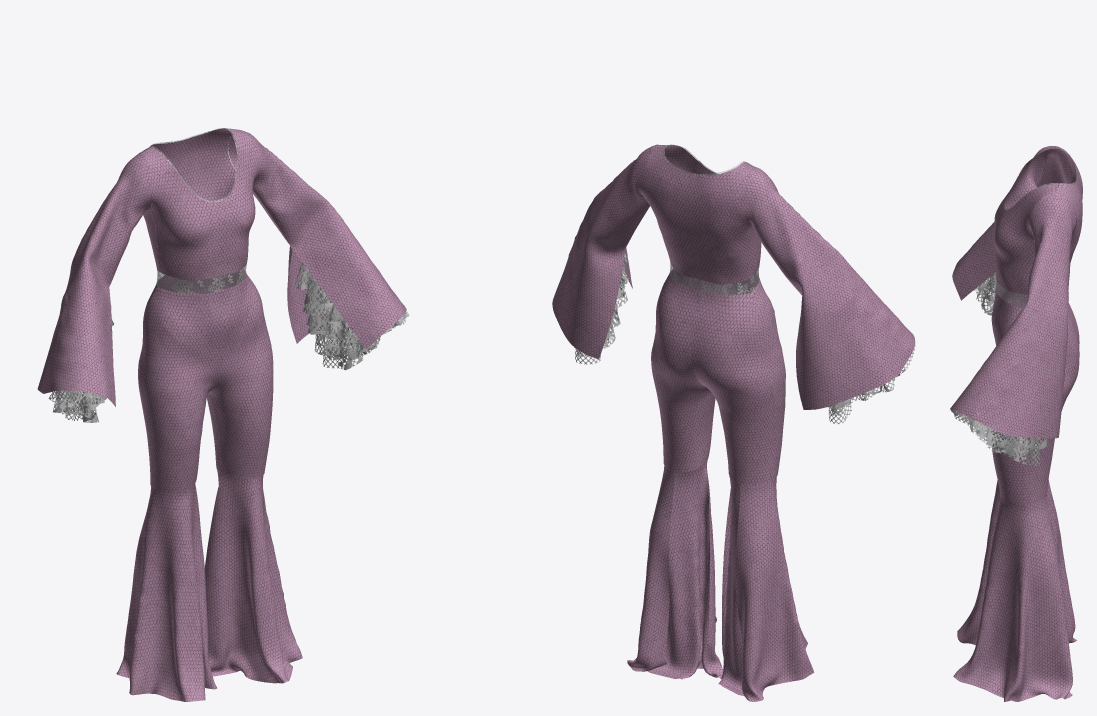
File: Jumpsuit_draco2.glb
The picture shows the model from 3 angles, left to right: view 1: azimuth 30°, elevation 25°; view 2: azimuth 150°, elevation 25°; view 3: azimuth 270°, elevation 25°; orthographic projection. The views are drawn at different scales.
Visible parts, largest first — view 1: Jumpsuit; view 2: Jumpsuit; view 3: Jumpsuit.
Part boxes in pixels (bbox=[...]): Jumpsuit: bbox=[37, 128, 409, 701]; Jumpsuit: bbox=[552, 144, 915, 701]; Jumpsuit: bbox=[950, 146, 1082, 701].
Size of the model in its own units: 1.12 by 1.56 by 0.3174.
3 materials, 2 textured.
